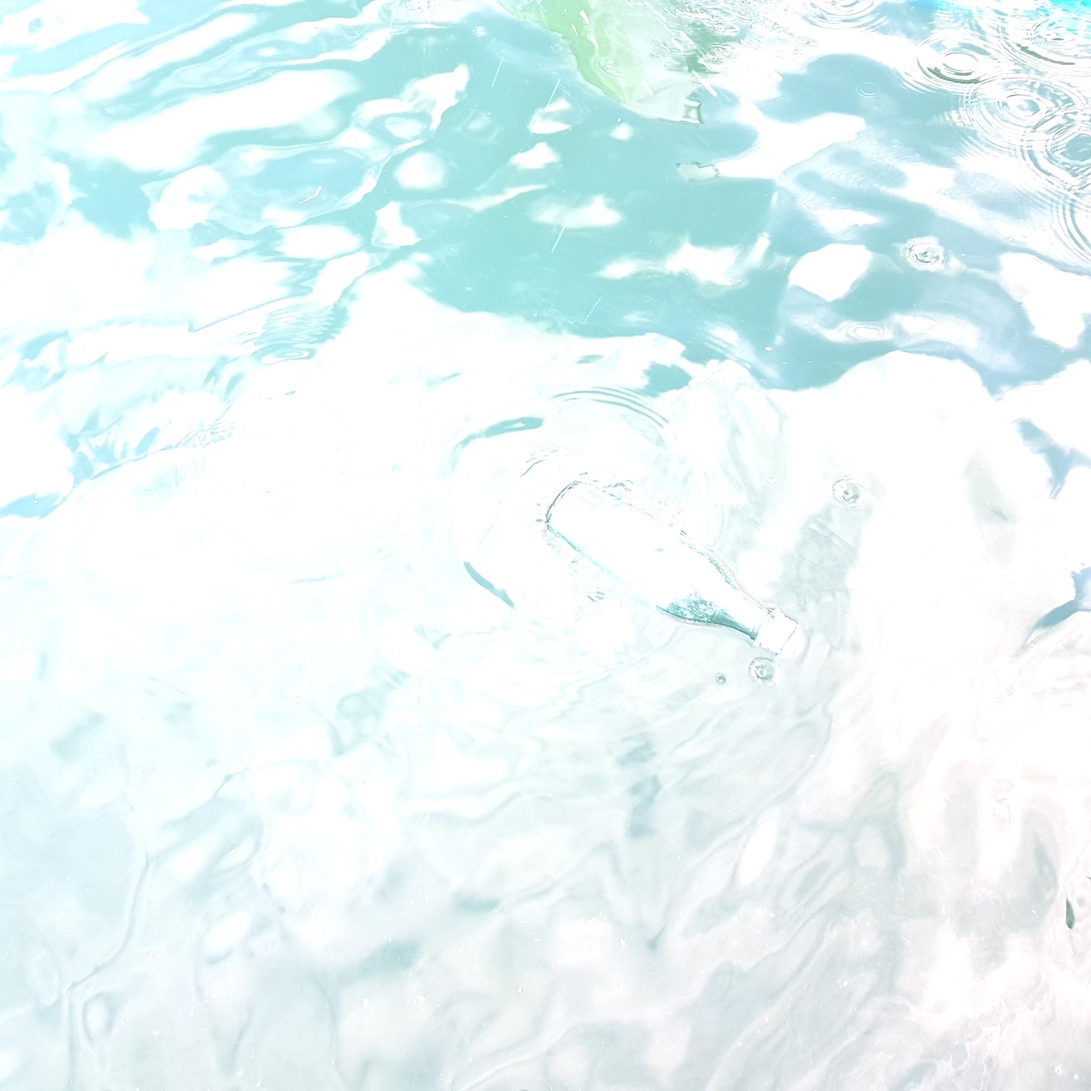sampah_terapung: (547, 481, 798, 655)
